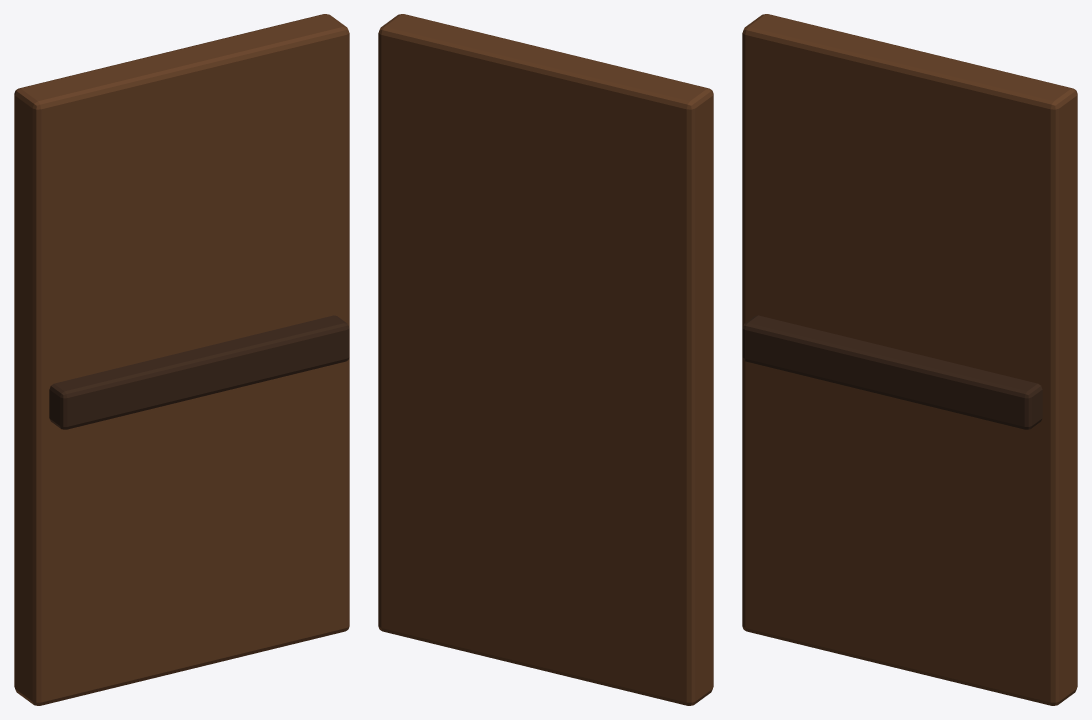
The model's file is door_wood_pivot_LOD1.glb.
The picture shows the model from 3 angles, left to right: view 1: azimuth 30°, elevation 25°; view 2: azimuth 150°, elevation 25°; view 3: azimuth 330°, elevation 25°; orthographic projection.
Visible parts, largest first — view 1: LOD1_DoorLeaf, LOD1_Brace; view 2: LOD1_DoorLeaf; view 3: LOD1_DoorLeaf, LOD1_Brace.
Part boxes in pixels (x1,y1,x2,y2): LOD1_DoorLeaf: (14, 14, 349, 705); LOD1_Brace: (49, 315, 349, 429); LOD1_DoorLeaf: (378, 14, 713, 705); LOD1_DoorLeaf: (742, 14, 1077, 705); LOD1_Brace: (742, 315, 1042, 429).
Size of the model in its own units: 1.38 by 2.52 by 0.28.
